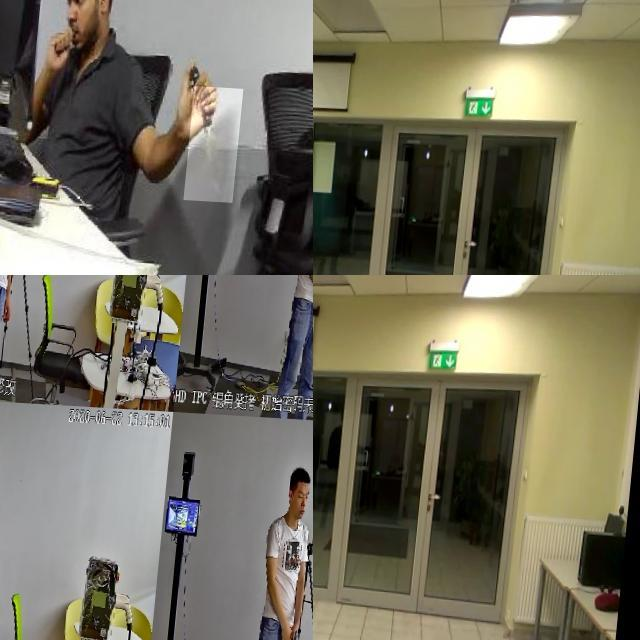-: (194, 82, 252, 198)
gun-knife-thesis - v11 Yolov5 augmented: (313, 519, 342, 572), (16, 275, 41, 299), (291, 620, 311, 640), (0, 602, 10, 640)
